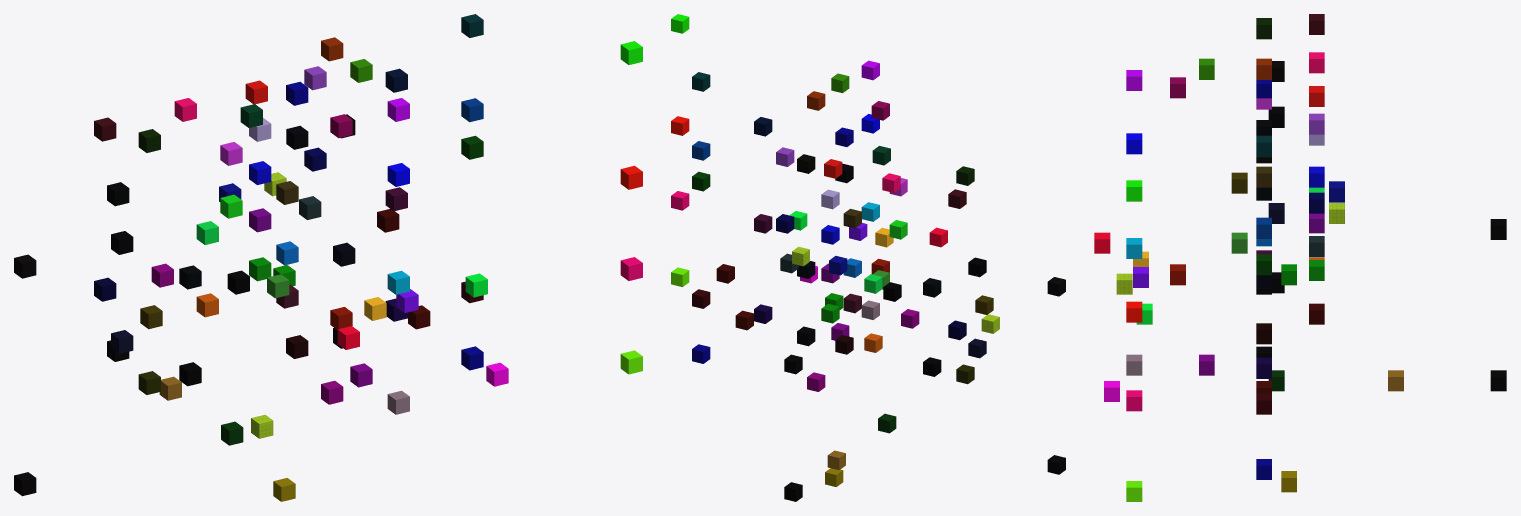
The model's file is testcubemodel7.obj.
3 renders of one model, left to right at view 1: azimuth 30°, elevation 25°; view 2: azimuth 150°, elevation 25°; view 3: azimuth 270°, elevation 25°, orthographic. The views are drawn at different scales.
Size of the model in its own units: 7737 by 6164 by 5198.
Materials: 76 (2 with a texture image).
